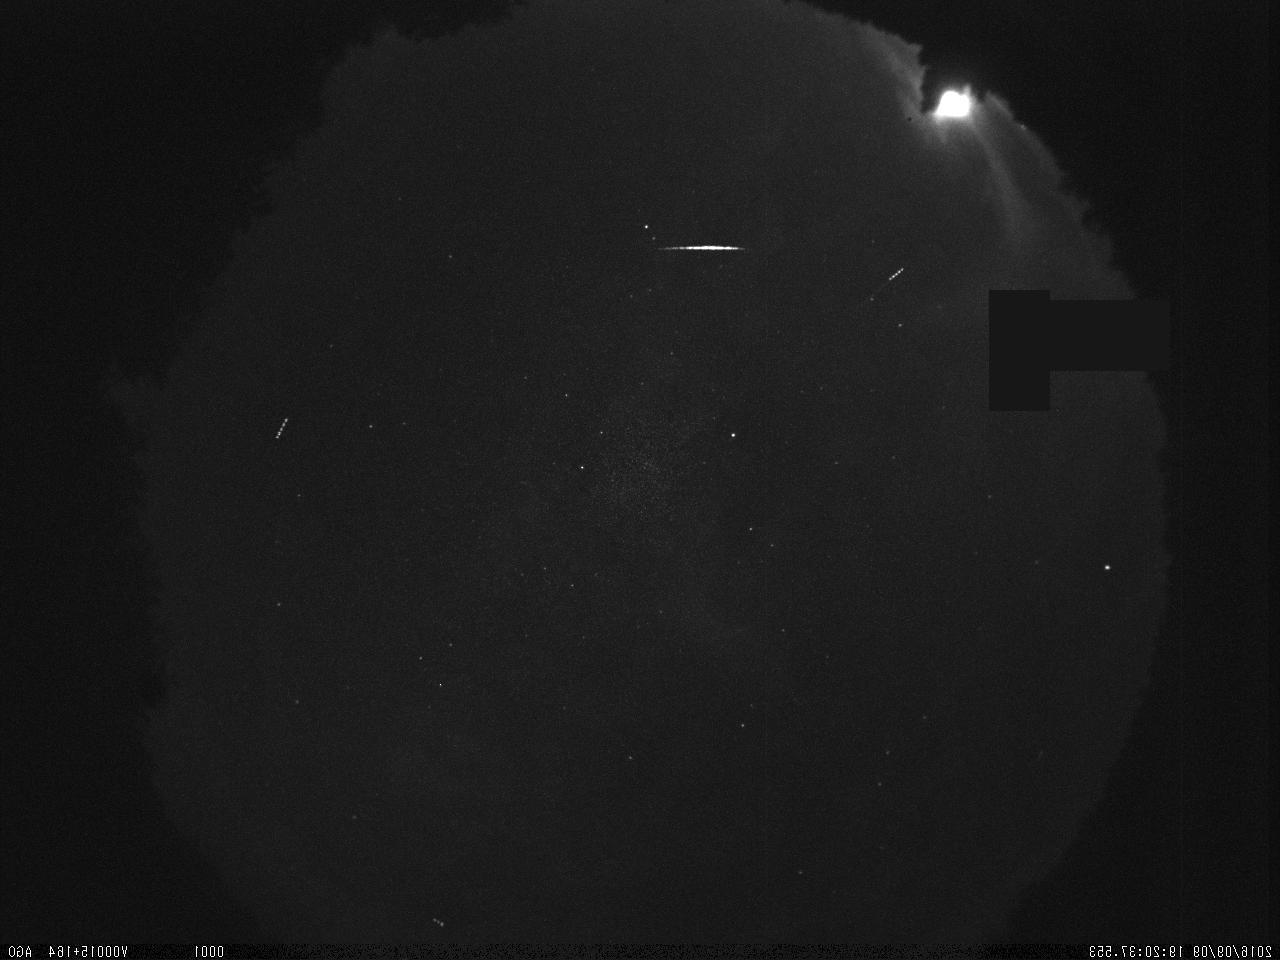meteor: (634, 228, 753, 263)
